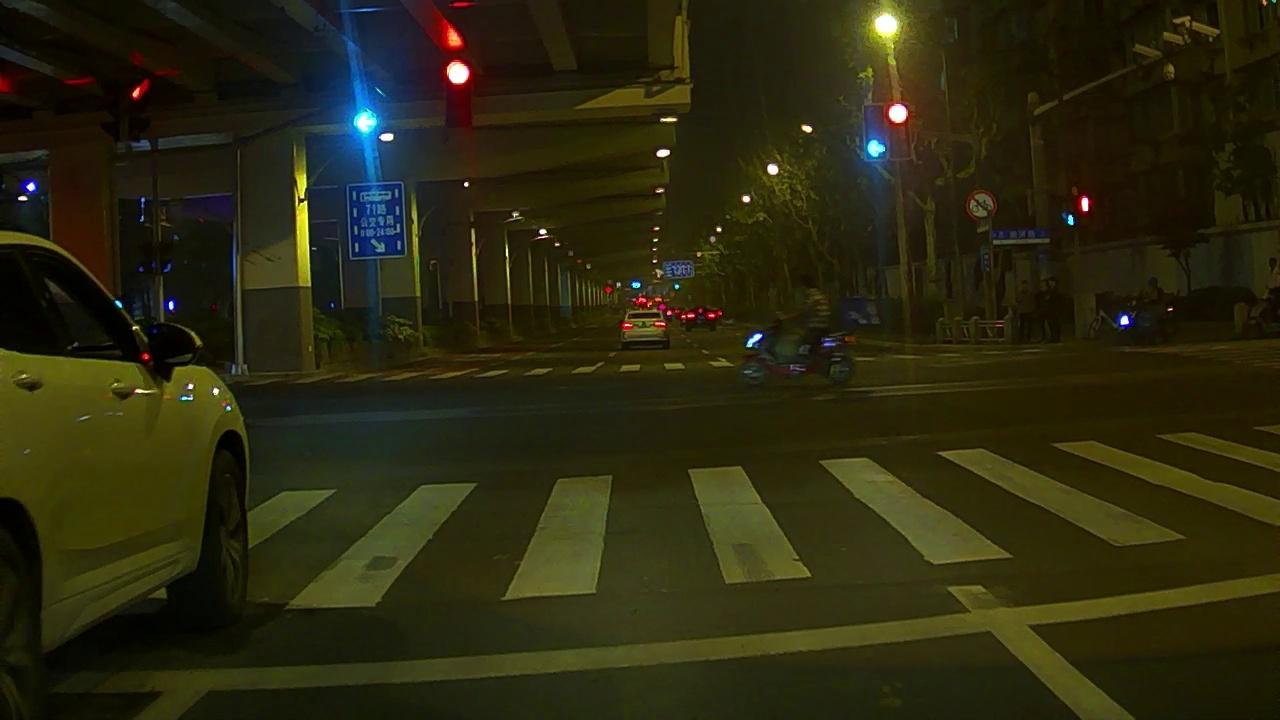traffic_light: (446, 60, 469, 124), (886, 105, 909, 159), (864, 106, 886, 160), (355, 112, 378, 133)
